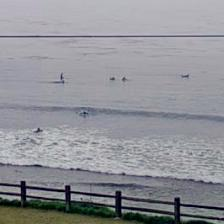surfer: (34, 127, 43, 133), (52, 80, 65, 84), (78, 111, 88, 116), (181, 73, 189, 78), (110, 76, 116, 82), (60, 72, 64, 80), (122, 76, 127, 81)
